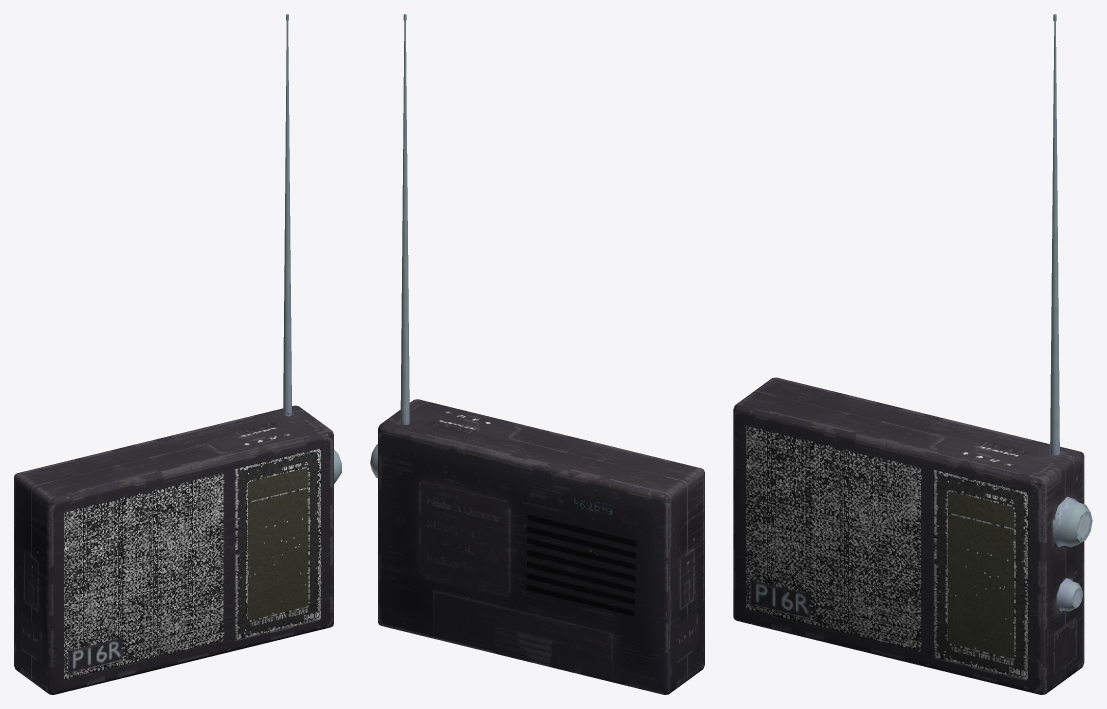
File: radio.obj
3 renders of one model, left to right at view 1: azimuth 30°, elevation 25°; view 2: azimuth 150°, elevation 25°; view 3: azimuth 330°, elevation 25°, orthographic. The views are drawn at different scales.
Visible parts, largest first — view 1: defaultMaterial_defaultMaterial_DefaultMaterial; view 2: defaultMaterial_defaultMaterial_DefaultMaterial; view 3: defaultMaterial_defaultMaterial_DefaultMaterial.
Part boxes in pixels (x1=…): defaultMaterial_defaultMaterial_DefaultMaterial: x1=14, y1=14, x2=341, y2=694; defaultMaterial_defaultMaterial_DefaultMaterial: x1=370, y1=14, x2=704, y2=694; defaultMaterial_defaultMaterial_DefaultMaterial: x1=733, y1=14, x2=1092, y2=694.
Bounding box in the file's own units: 0.4977 × 0.936 × 0.1089.
Materials: 1 (1 with a texture image).
